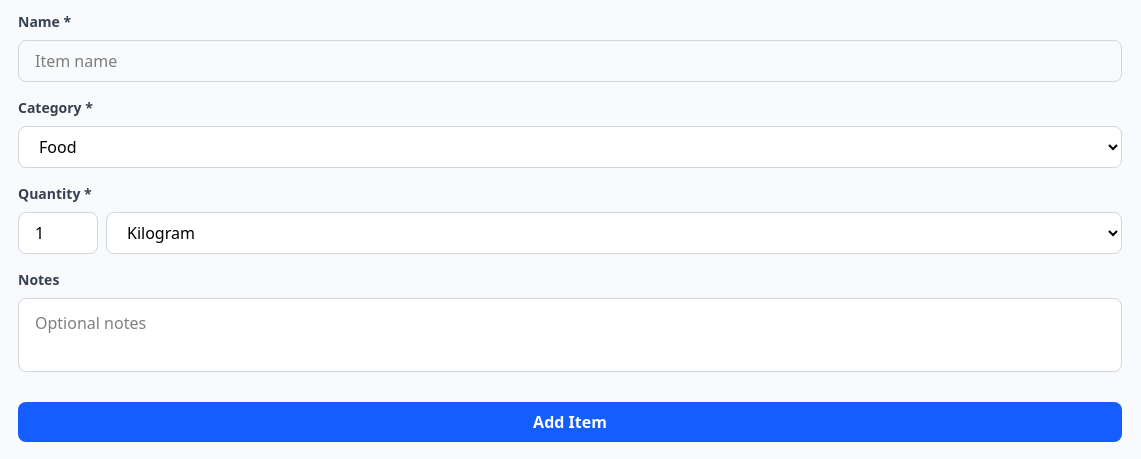
Test case: ItemForm › Autocomplete item selection › suggests Hebrew items when language is Hebrew
In the dropdown with placeholder "Item name": (570, 61) [18, 40, 1122, 82], type "אוהל"
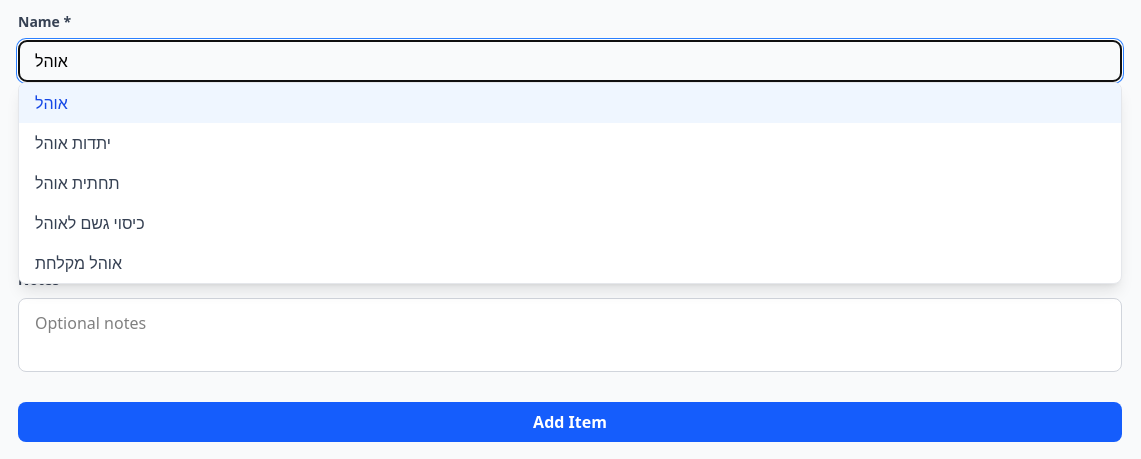
Expected: the option "אוהל" is shown
Click the option "אוהל": (51, 103) [19, 83, 1121, 123]
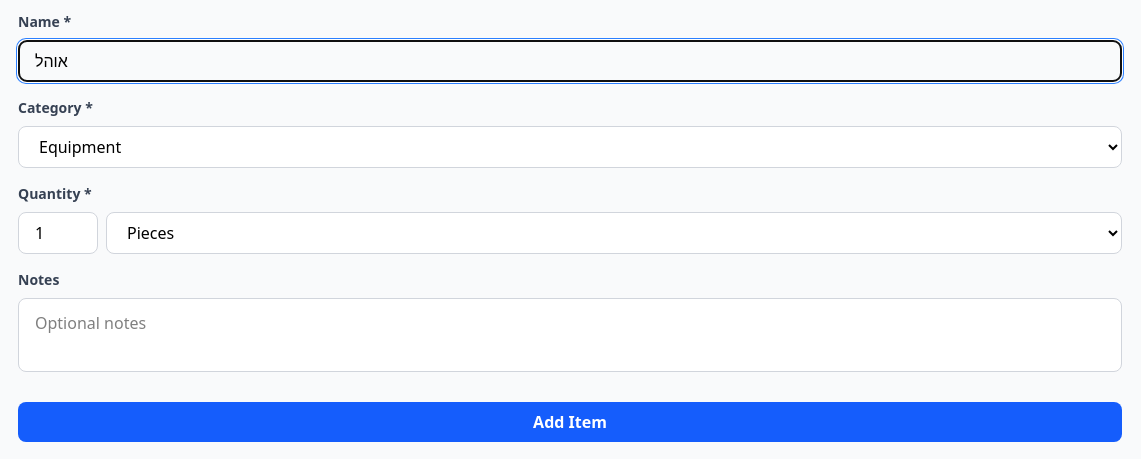
Expected: the dropdown below "Category *" shows "Equipment", [18, 126, 1122, 168]
Expected: the dropdown named "unit" below "Quantity *" shows "Pieces", [106, 212, 1122, 254]
